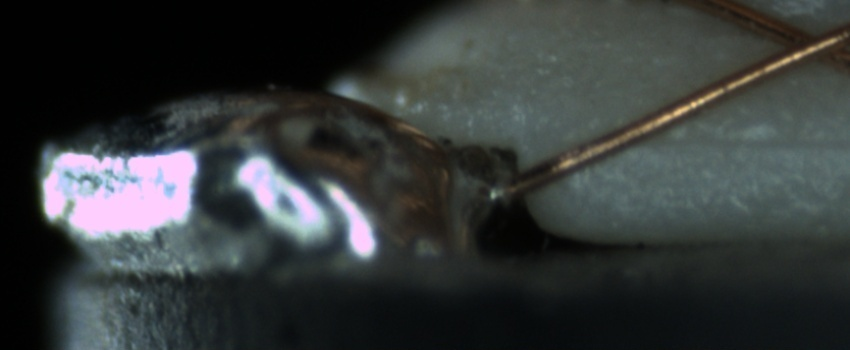CL: (751, 11, 849, 77)
DL: (622, 106, 845, 174)
